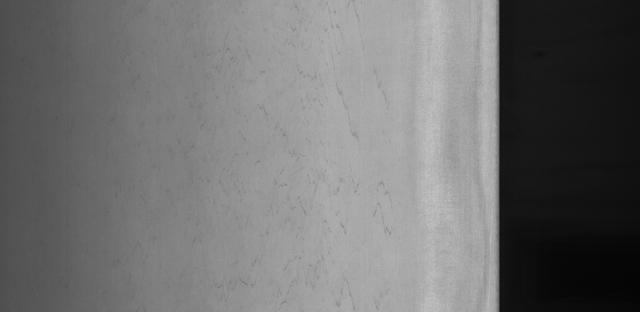silk_spot: (206, 14, 410, 285)
